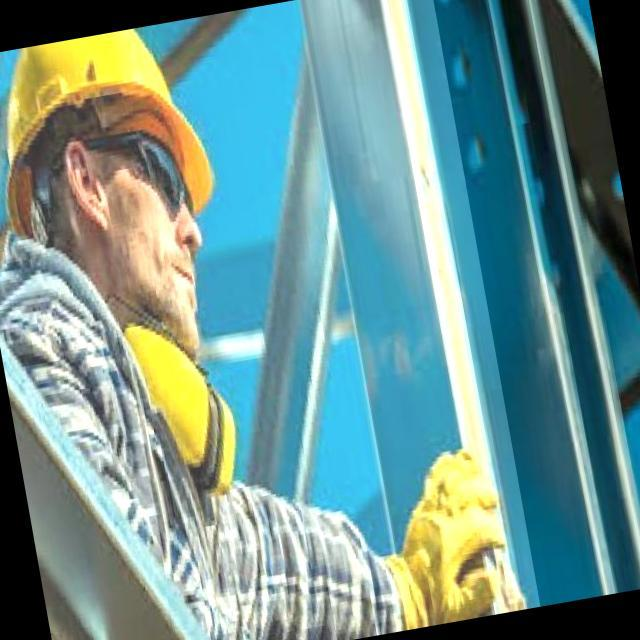Gloves: (369, 442, 509, 640)
Helmet: (0, 20, 222, 252)
Person: (0, 7, 556, 640)
no-vest: (0, 232, 406, 640)
